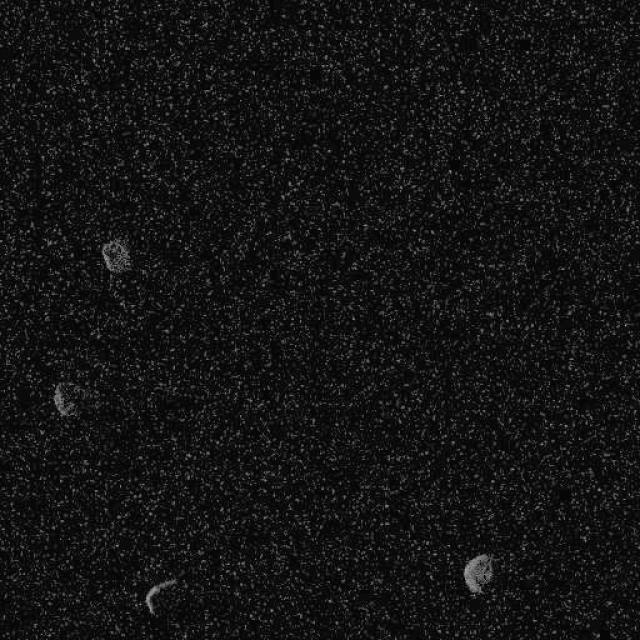D2: (461, 553, 494, 595), (144, 576, 178, 615), (51, 380, 84, 419), (100, 238, 132, 274)
